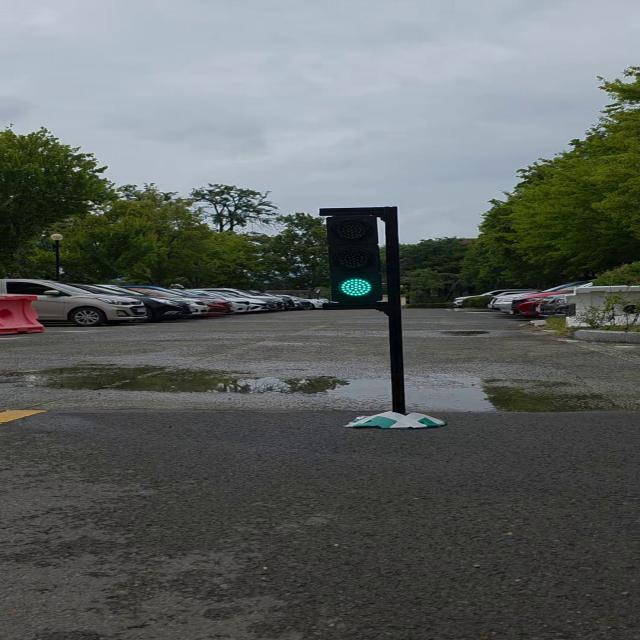green: (317, 208, 402, 310)
